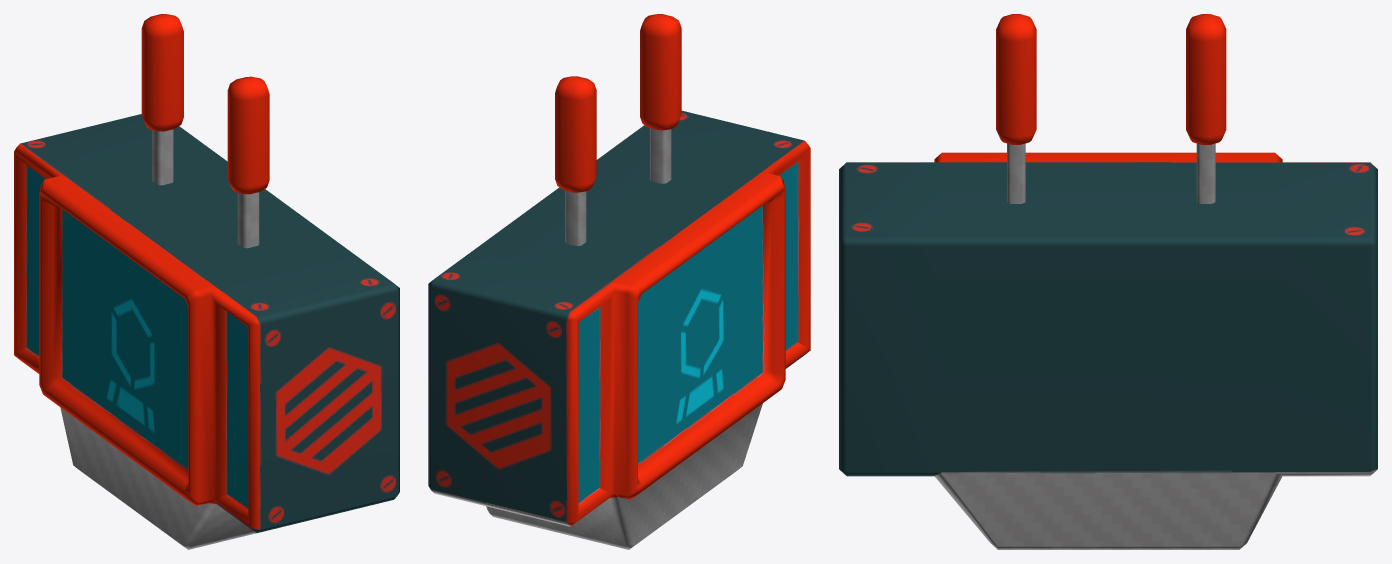
Rendered from SM_Television.fbx.
3 views of the same model, side by side, from view 1: azimuth 30°, elevation 25°; view 2: azimuth 150°, elevation 25°; view 3: azimuth 270°, elevation 25° (orthographic). The views are drawn at different scales.
Visible parts, largest first — view 1: SM_Television; view 2: SM_Television; view 3: SM_Television.
Part boxes in pixels (x1,y1,x2,y2): SM_Television: (14,14,399,549); SM_Television: (428,14,810,549); SM_Television: (839,14,1377,549).
Size of the model in its own units: 21.75 by 55.11 by 55.93.
Materials: 1 (1 with a texture image).
